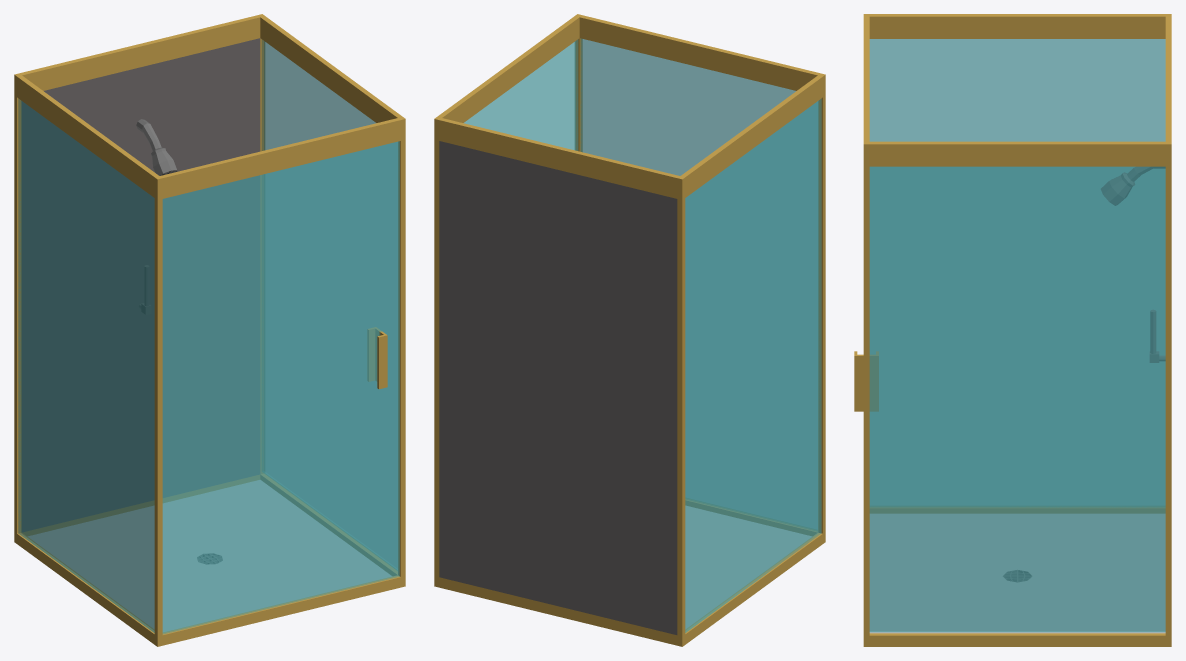
Rendered from Shower.fbx.
3 views of the same model, side by side, from view 1: azimuth 30°, elevation 25°; view 2: azimuth 150°, elevation 25°; view 3: azimuth 270°, elevation 25° (orthographic). The views are drawn at different scales.
Visible parts, largest first — view 1: Shower Frame, Glass, Door; view 2: Shower Frame, Door, Glass; view 3: Glass, Shower Frame, Door, Shower Head.
Part boxes in pixels (left/top/right/bottom): Shower Frame: left=14, top=14, right=405, bottom=646; Glass: left=18, top=39, right=397, bottom=632; Door: left=162, top=141, right=399, bottom=634; Shower Frame: left=434, top=14, right=825, bottom=646; Door: left=580, top=38, right=817, bottom=530; Glass: left=463, top=39, right=821, bottom=632; Glass: left=869, top=39, right=1165, bottom=632; Shower Frame: left=863, top=14, right=1171, bottom=646; Door: left=854, top=351, right=878, bottom=411; Shower Head: left=1101, top=172, right=1134, bottom=205.
Size of the model in its own units: 1000 by 1800 by 1030.
